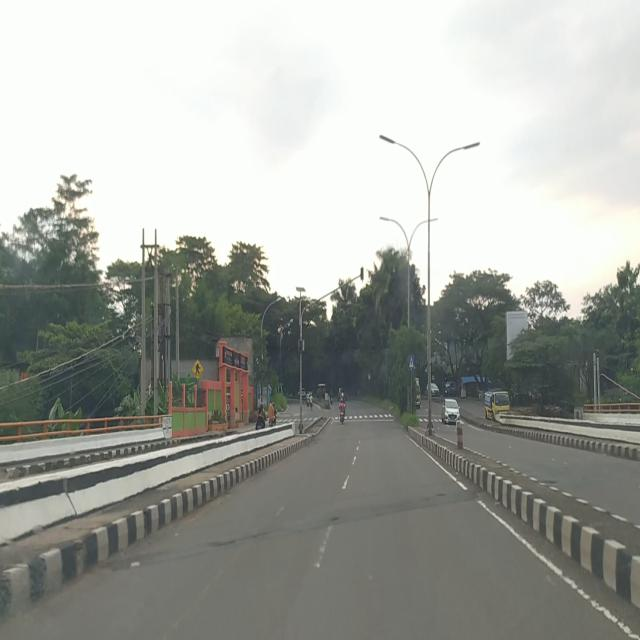Sewer Cover: (196, 528, 272, 551)
